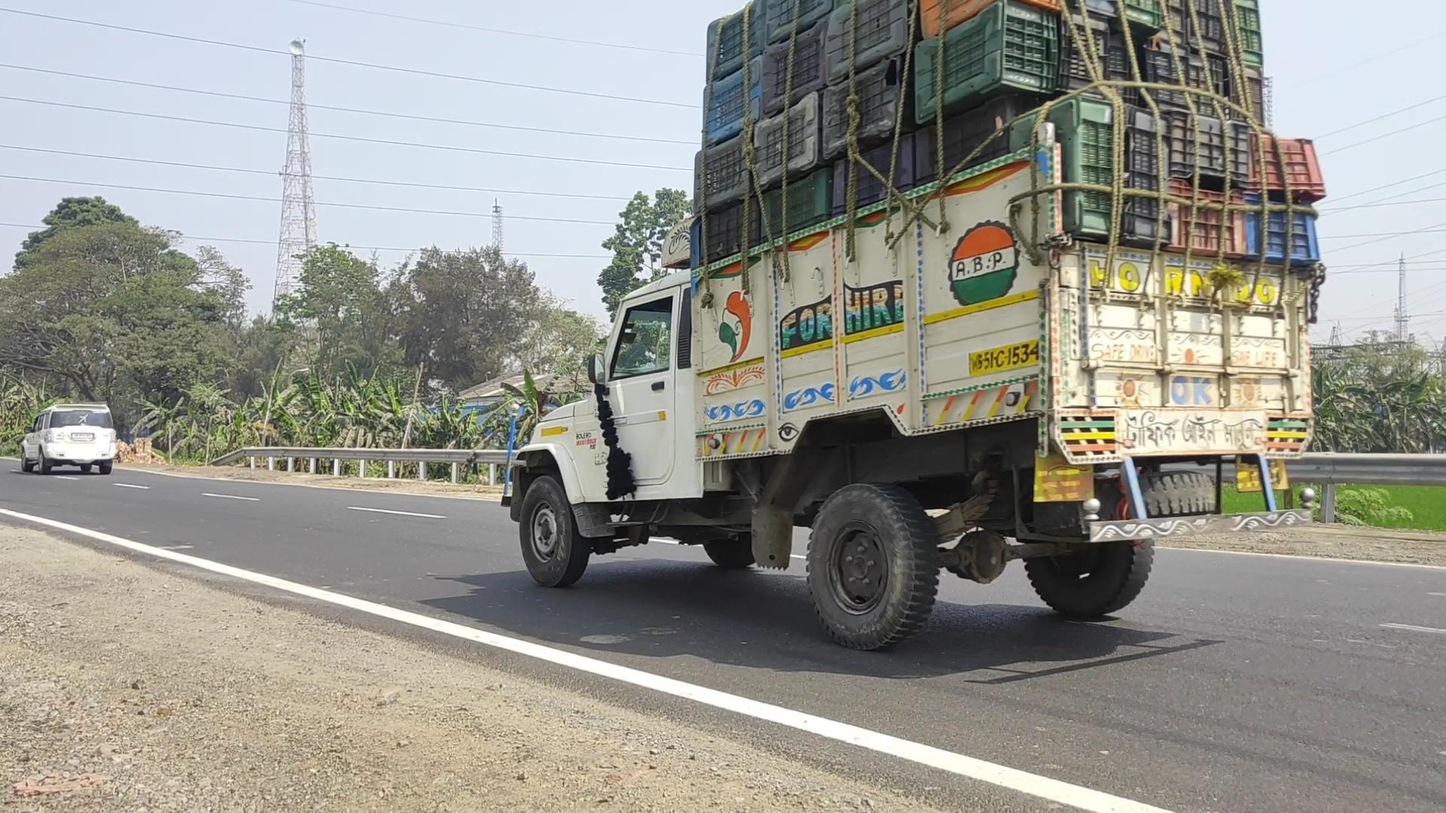car: (20, 403, 117, 477)
van: (502, 2, 1318, 653)
